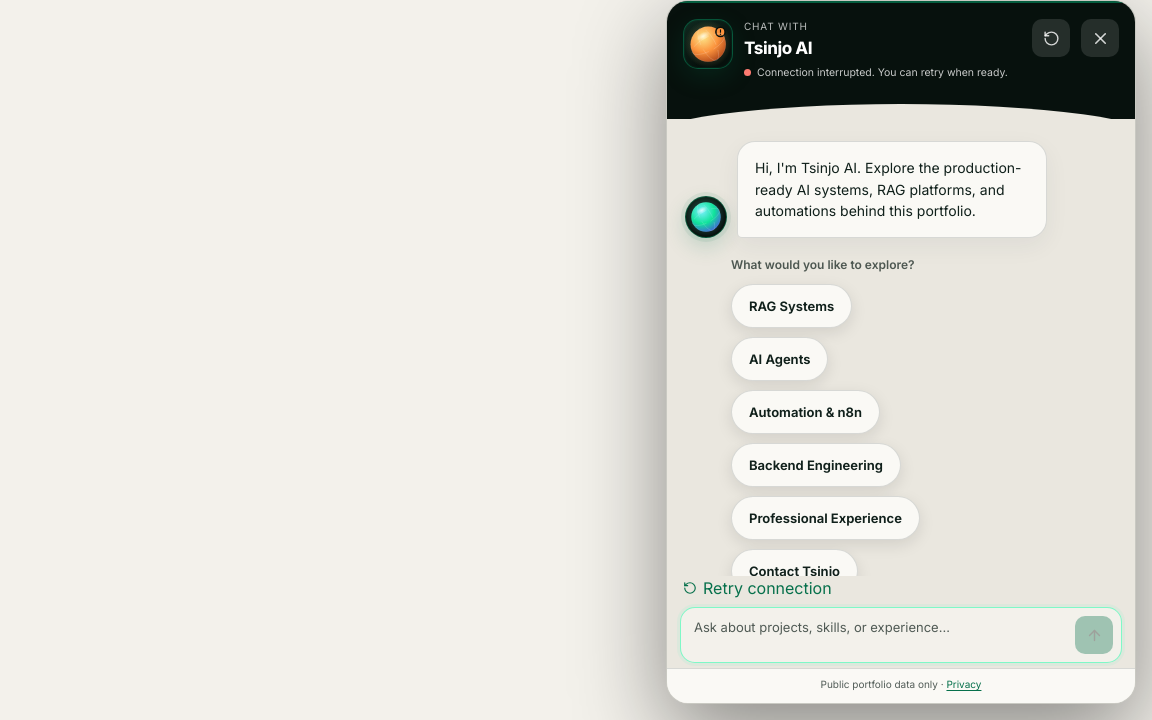
Test: PortfolioAssistant › retries initial session creation without requiring a previous question
The image size is (1152, 720).
Click the button "Retry connection". click: (757, 588)
box: [683, 576, 832, 600]
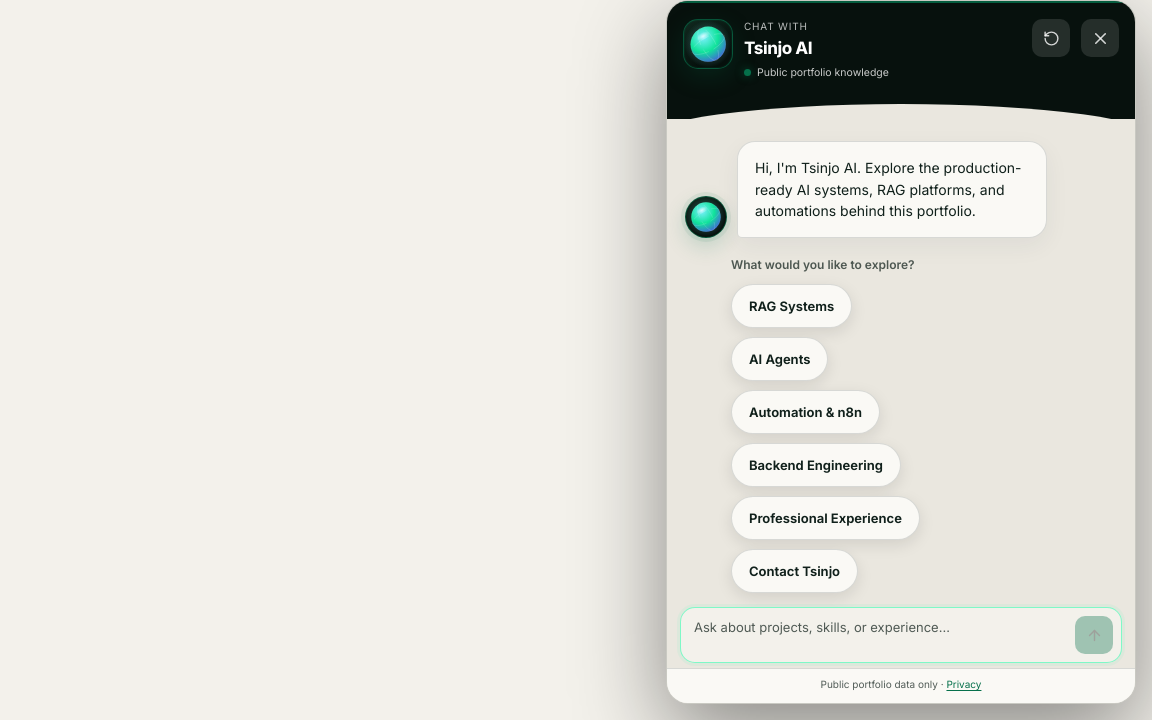
Now the message reads "Public portfolio knowledge", box [757, 66, 889, 78]
